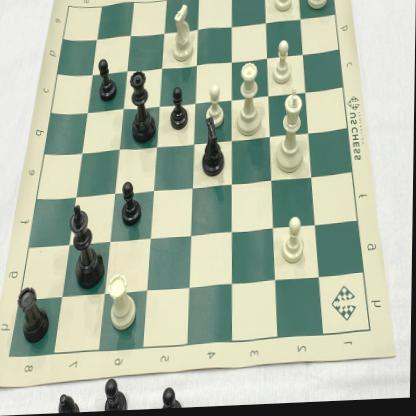black-king: (69, 202, 108, 296)
black-knight: (198, 117, 233, 181)
black-pawn: (96, 53, 122, 107), (121, 181, 144, 233), (168, 87, 191, 137)
black-queen: (129, 67, 160, 151)
black-rook: (18, 283, 54, 351)
white-king: (274, 87, 308, 180)
white-knight: (170, 2, 198, 67)
white-pawn: (203, 81, 229, 135), (281, 217, 308, 268), (272, 39, 296, 89), (272, 0, 296, 18)
white-queen: (237, 60, 263, 141)
white-rook: (107, 270, 139, 336), (303, 0, 331, 15)
